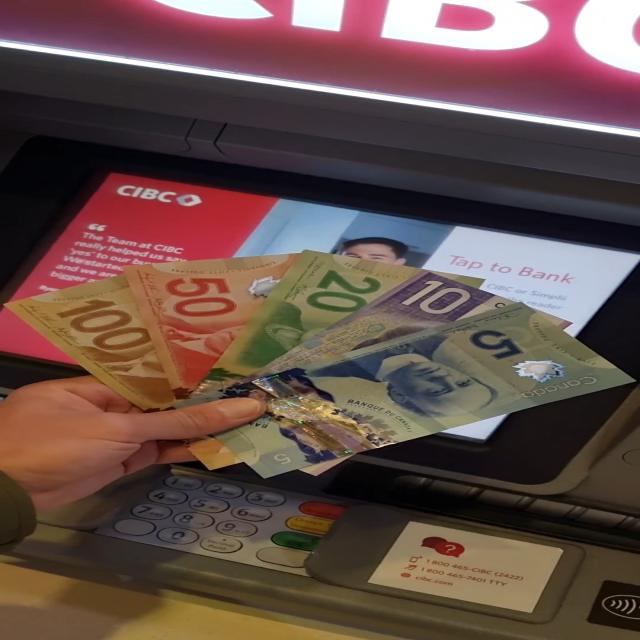10 cad: (235, 271, 518, 388)
100 cad: (9, 272, 186, 414)
20 cad: (195, 252, 430, 395)
5 cad: (239, 303, 640, 459)
50 cad: (127, 252, 290, 399)
